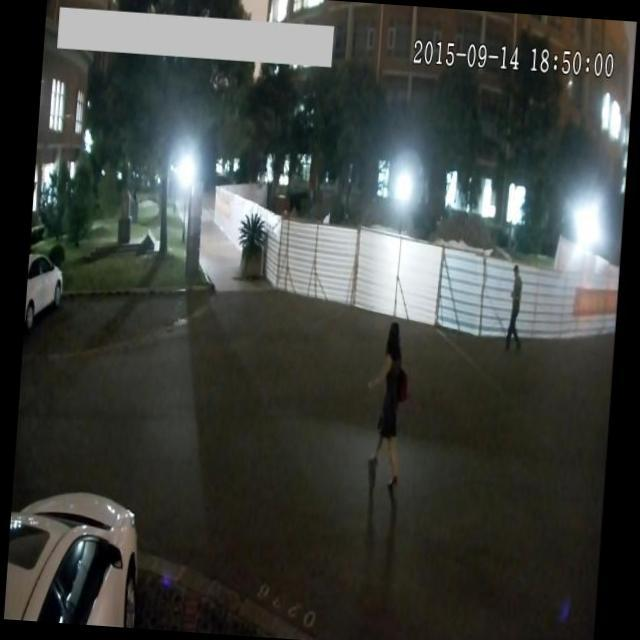person: (359, 317, 414, 489), (501, 259, 528, 352)
